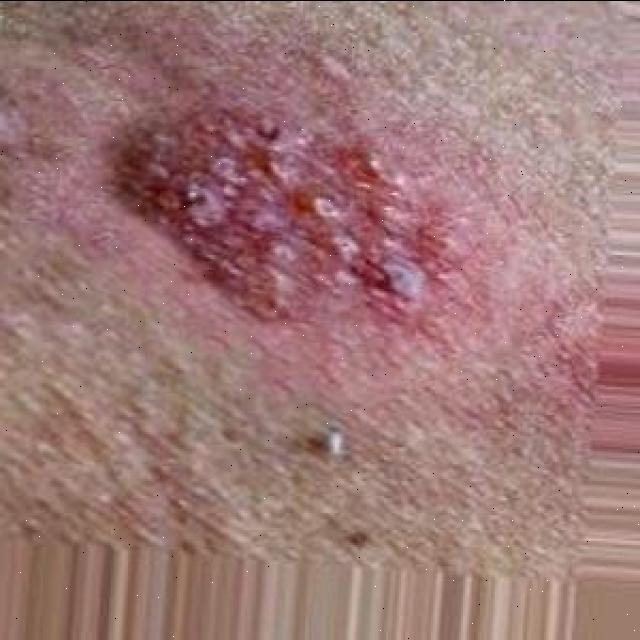Shingles: (110, 96, 466, 326)
